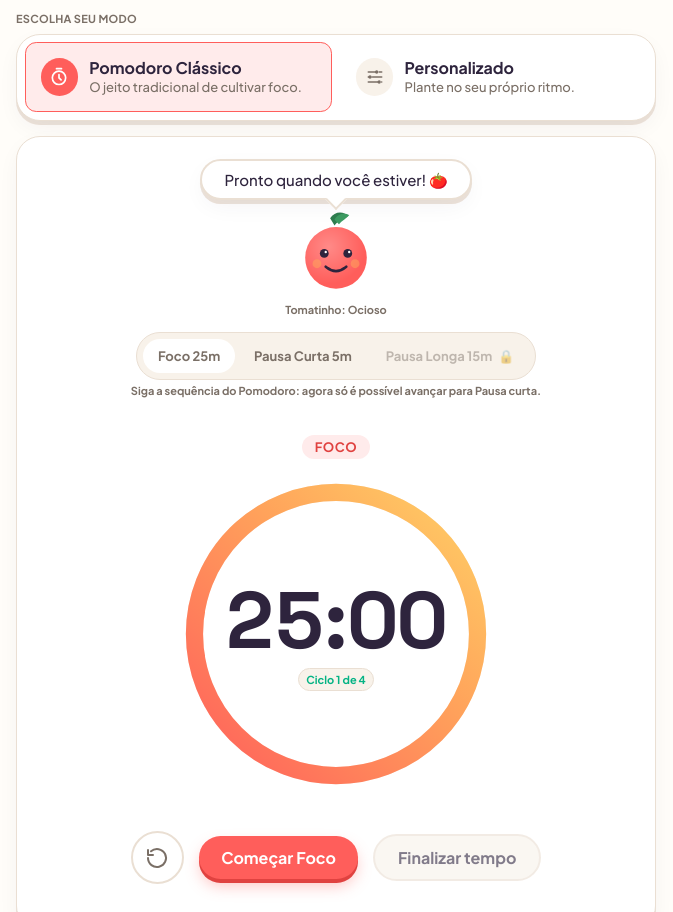
Test: TimerPage (mode: account) › alternância de modo (Parte 5) › alternar para "Personalizado" troca para a FlexibleTimerView e some com a tela clássica
Click the tab "Personalizado" at [494, 77], box [340,42,648,112]
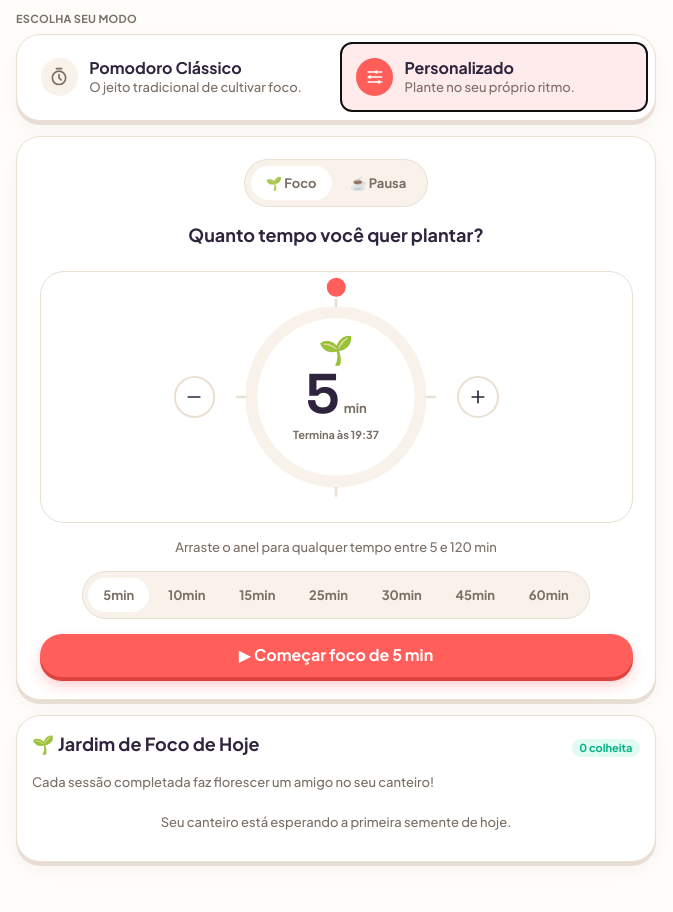
Now the heading "Quanto tempo você quer plantar?" is shown, box [188,222,484,248]
Now the text "25:00" is gone
